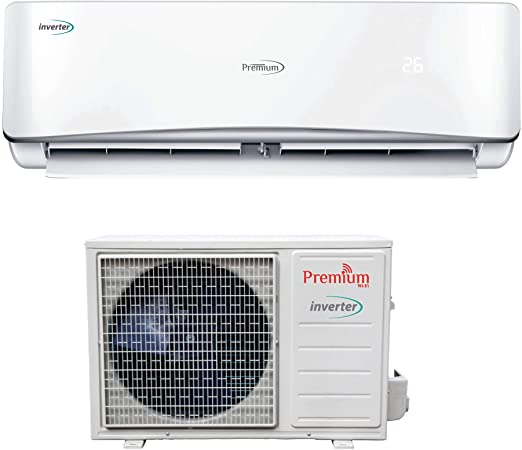ac: (1, 1, 522, 175)
